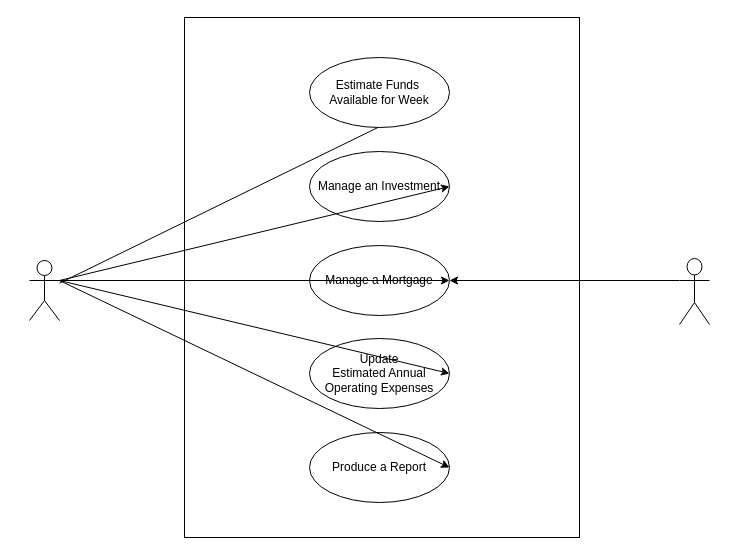
Some shapes in this 736 by 555 pixel diagram are drawn without their labels. The shapes that lost their labels are listed below. From the top down, each one's box as (x1, y1, x2, y2) in pixels, then its label:
(28, 260, 60, 320): MSG Staff
(184, 16, 580, 538): MSGF System
(678, 258, 710, 324): Borrower
